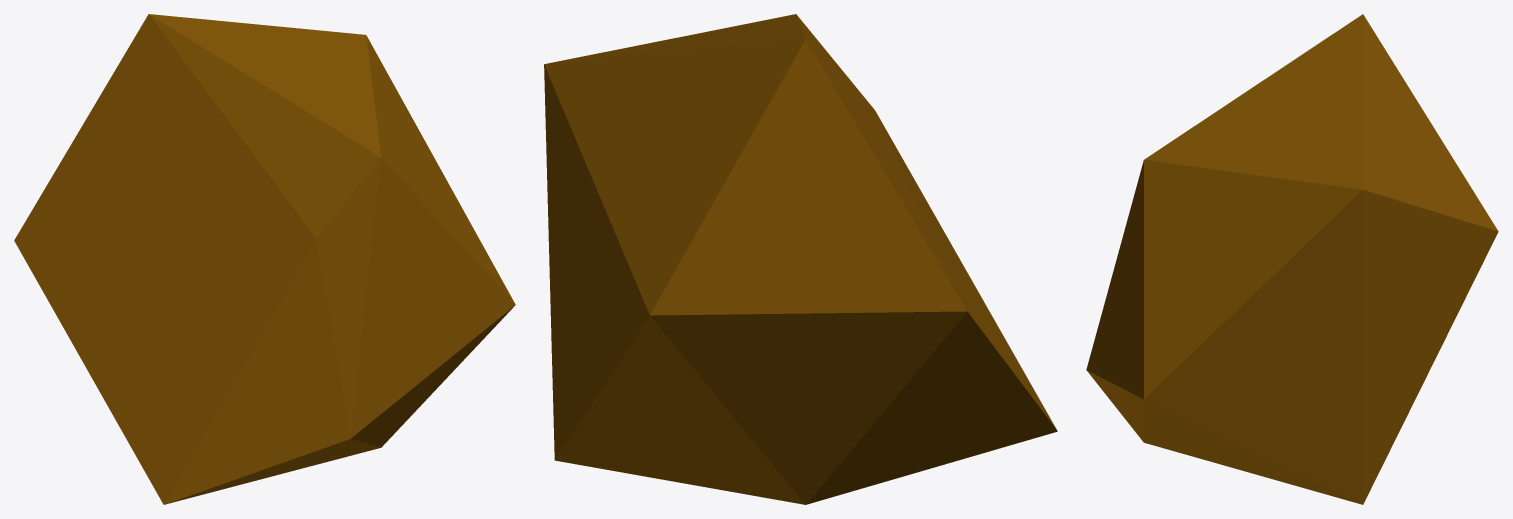
The model's file is ROCK.fbx.
3 views of the same model, side by side, from view 1: azimuth 30°, elevation 25°; view 2: azimuth 150°, elevation 25°; view 3: azimuth 270°, elevation 25° (orthographic). The views are drawn at different scales.
Parts seen in each view (by area): view 1: pPlatonic1; view 2: pPlatonic1; view 3: pPlatonic1.
Boxes of the visible parts, left/top/right/bottom form: pPlatonic1: left=14, top=14, right=515, bottom=504; pPlatonic1: left=544, top=14, right=1057, bottom=504; pPlatonic1: left=1086, top=14, right=1498, bottom=504.
Size of the model in its own units: 2.76 by 2.72 by 2.59.
